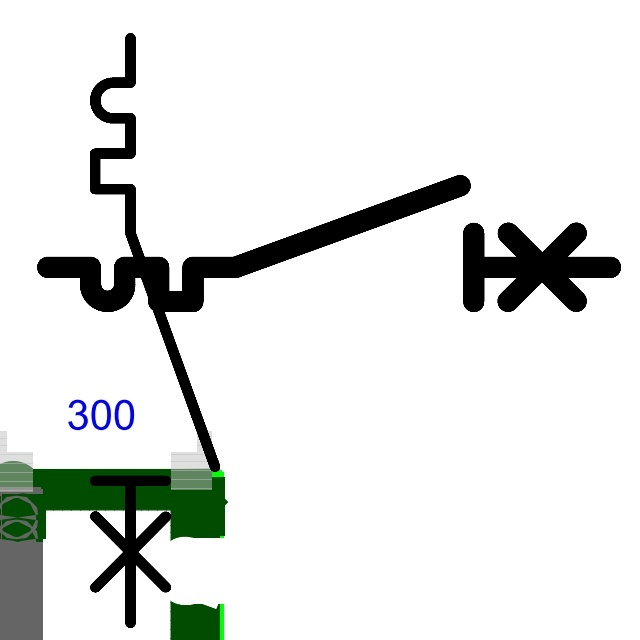interruptor_termomagnetico: (80, 23, 230, 637), (33, 171, 624, 316)
